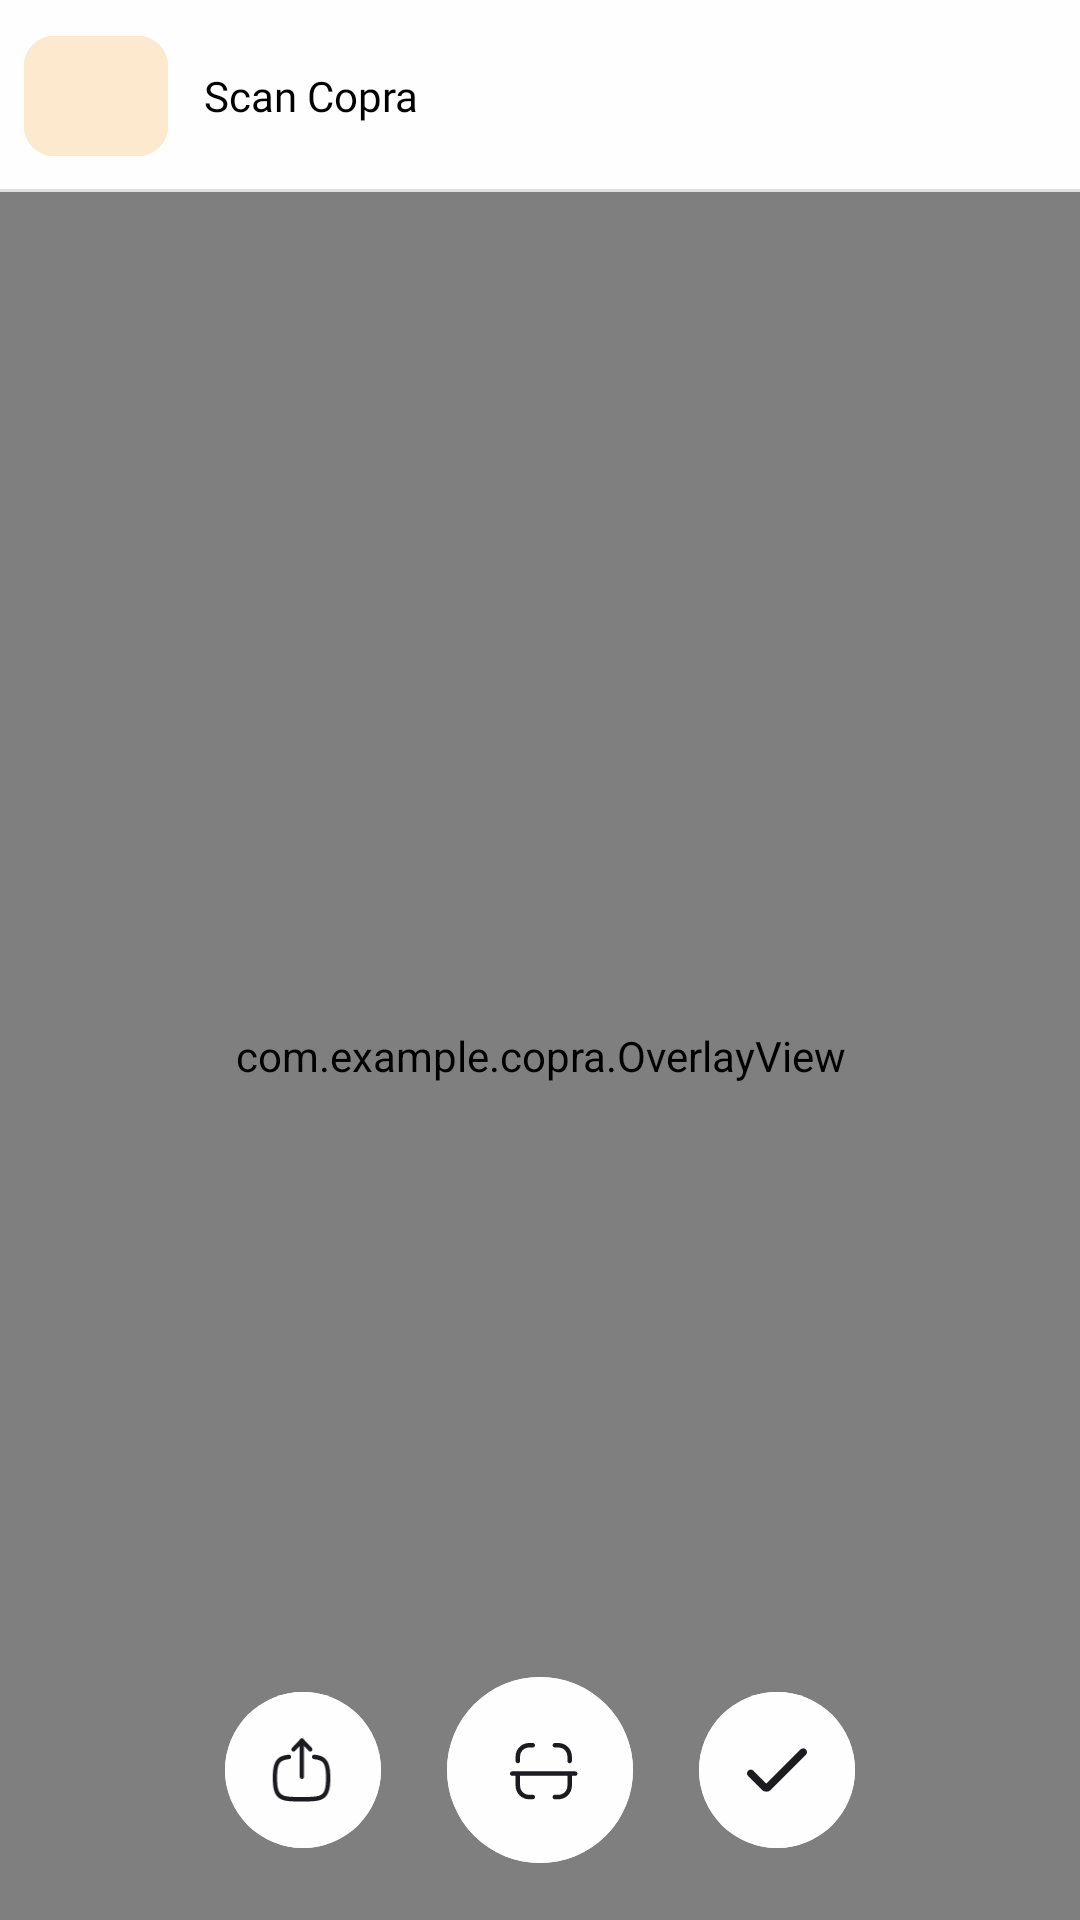

Screen size 1080 × 1920. Icon name, then its center in pixels as (x,y):
check: (777,1770)
scan: (540,1770)
upload: (303,1770)
